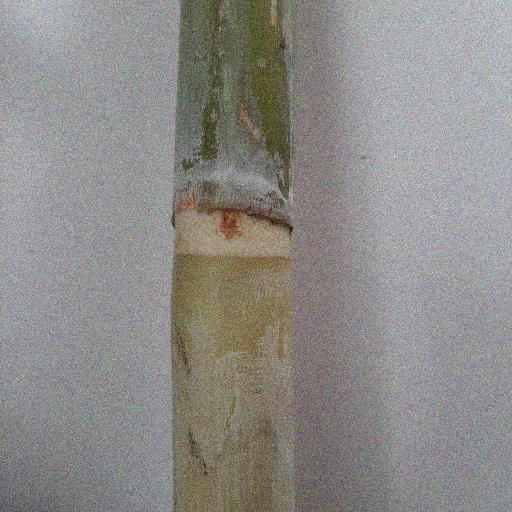Damage_Bud: (218, 208, 243, 244)
